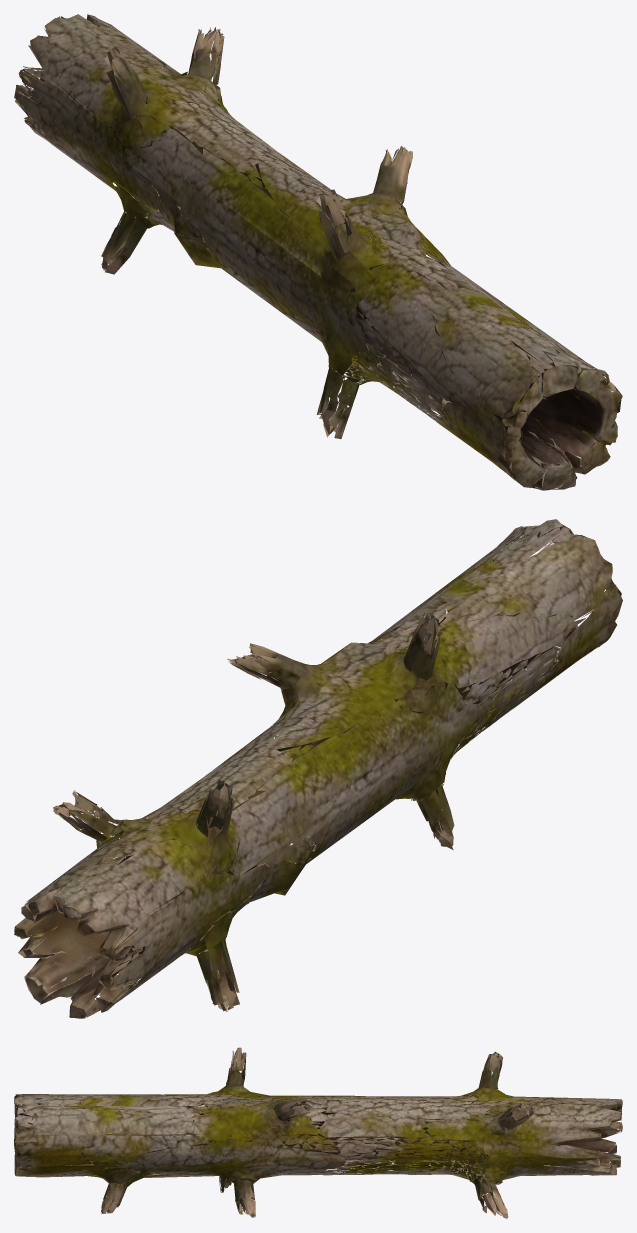
Rendered from obs_biglog.glb.
3 renders of one model, top to bottom at view 1: azimuth 30°, elevation 25°; view 2: azimuth 150°, elevation 25°; view 3: azimuth 270°, elevation 25°, orthographic. The views are drawn at different scales.
Parts seen in each view (by area): view 1: material; view 2: material; view 3: material.
Boxes of the visible parts, <box> form: material: <box>14,14,622,490</box>; material: <box>14,519,622,1018</box>; material: <box>14,1047,622,1218</box>.
Size of the model in its own units: 0.2504 by 0.3136 by 1.18.
Materials: 1 (1 with a texture image).
